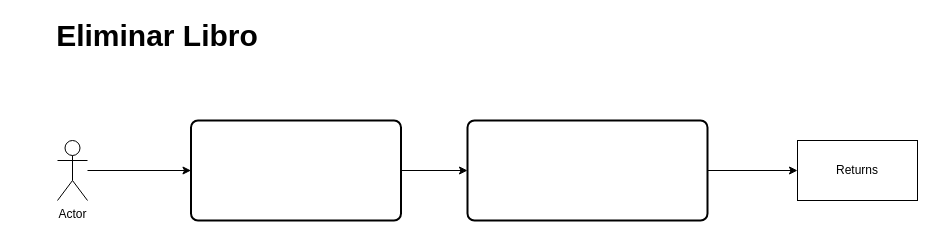
The diagram is 935 pixels wide and 238 high, and some of its shapes have lost their labels. Each missing label, with the centre of its shape:
EndPoint Delete Book DELETE http://0.0.0.0:5000/books: pixel 296 170
Repository Delete Books internal Postgres SQL: pixel 587 170
